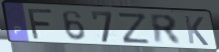6: (60, 10, 87, 42)
7: (89, 10, 115, 44)
F: (27, 8, 56, 41)
K: (182, 15, 210, 47)
R: (148, 13, 184, 46)
Z: (116, 11, 152, 45)
